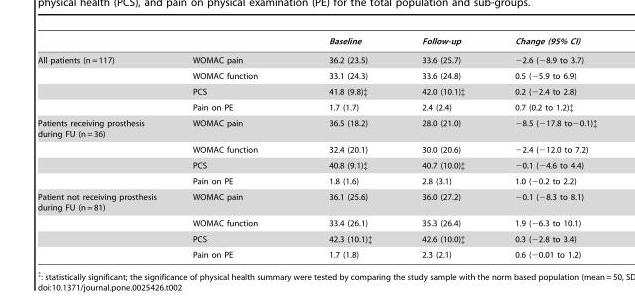table: (37, 36, 596, 258)
table column: (37, 36, 173, 258), (173, 36, 292, 258), (488, 36, 596, 258), (292, 36, 395, 258), (395, 36, 488, 258)
table column header: (37, 36, 596, 50)
table row: (37, 188, 596, 215), (37, 115, 596, 141), (37, 50, 596, 67), (37, 156, 596, 173), (37, 230, 596, 247), (37, 67, 596, 83), (37, 83, 596, 99), (37, 99, 596, 115), (37, 141, 596, 156), (37, 173, 596, 188), (37, 215, 596, 230), (37, 36, 596, 50), (37, 247, 596, 258)
table spanning cell: (37, 115, 173, 188), (37, 188, 173, 258), (37, 50, 173, 115)
